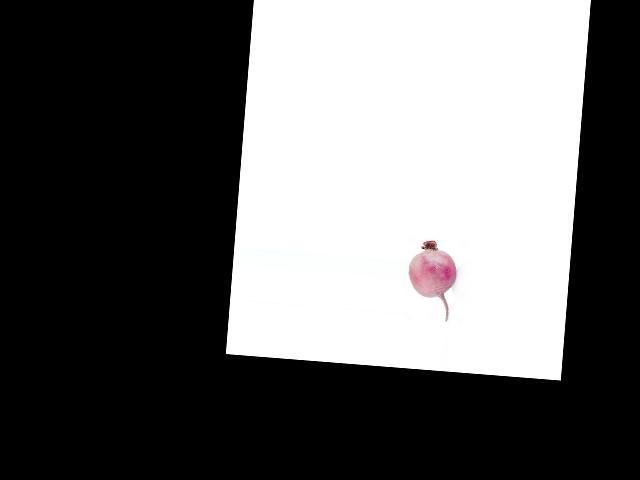beet: (405, 239, 458, 322)
